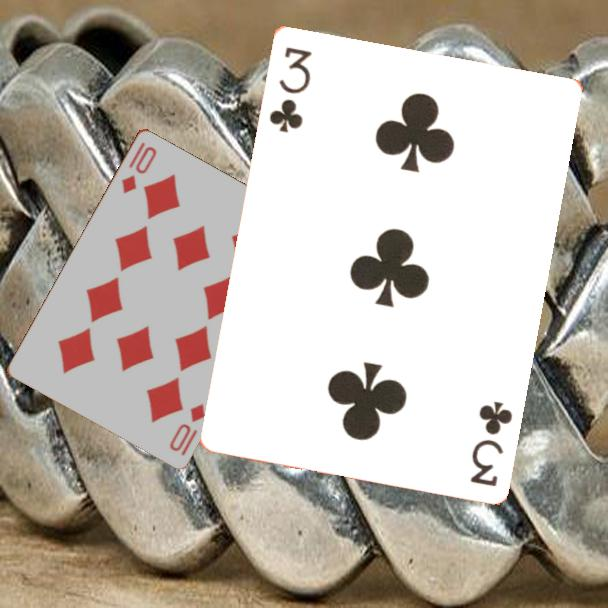c03: (265, 43, 315, 135), (466, 397, 515, 489)
d10: (166, 399, 208, 459), (118, 138, 160, 196)
